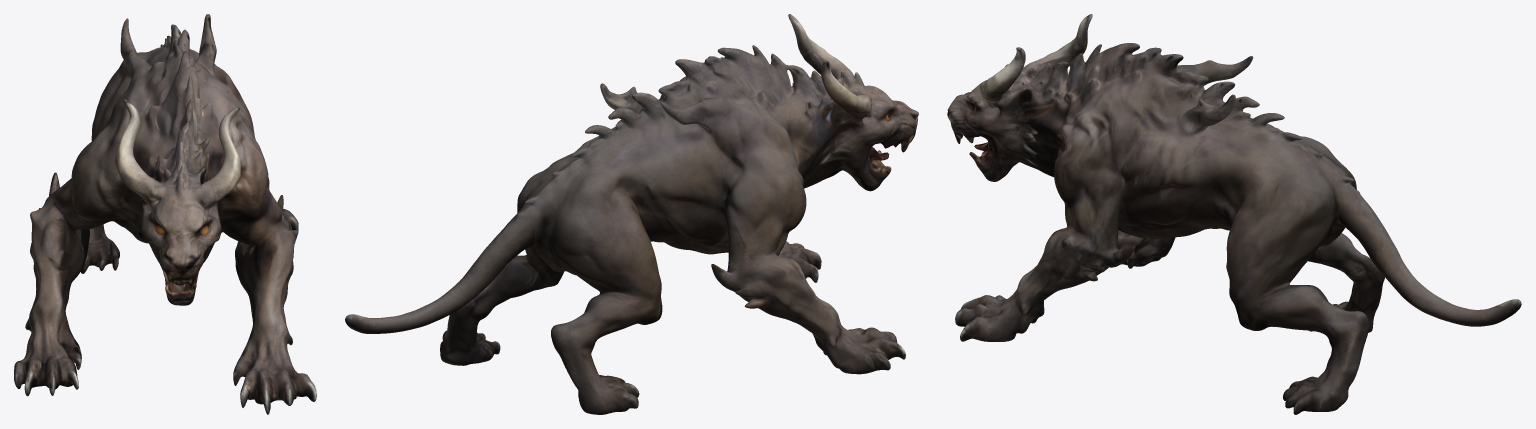
The model's file is A_sturdy_quadroupedal_1218180614_texture.fbx.
The picture shows the model from 3 angles, left to right: view 1: azimuth 30°, elevation 25°; view 2: azimuth 150°, elevation 25°; view 3: azimuth 270°, elevation 25°; orthographic projection. The views are drawn at different scales.
Visible parts, largest first — view 1: Mesh1_Mesh1.056; view 2: Mesh1_Mesh1.056; view 3: Mesh1_Mesh1.056.
Boxes of the visible parts, x1,y1,x2,y2 form: Mesh1_Mesh1.056: [14, 14, 316, 414]; Mesh1_Mesh1.056: [345, 14, 918, 414]; Mesh1_Mesh1.056: [947, 14, 1521, 414].
Bounding box in the file's own units: 143 × 108 × 200.
1 material, 1 textured.
